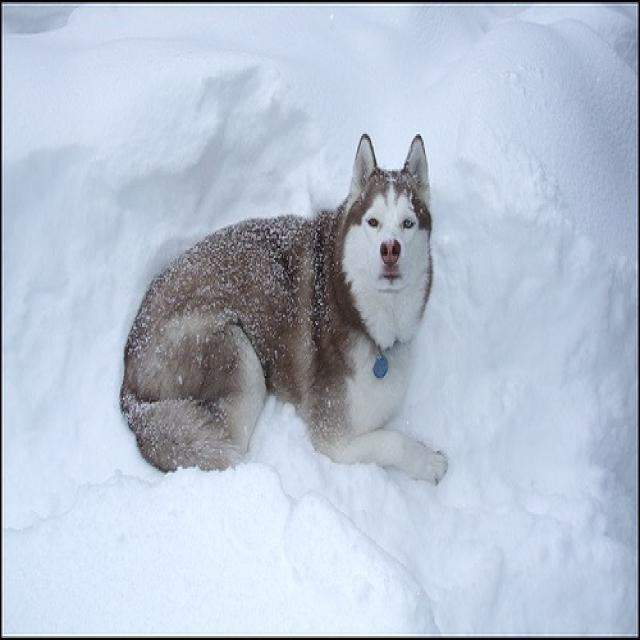dog: (106, 114, 460, 502)
